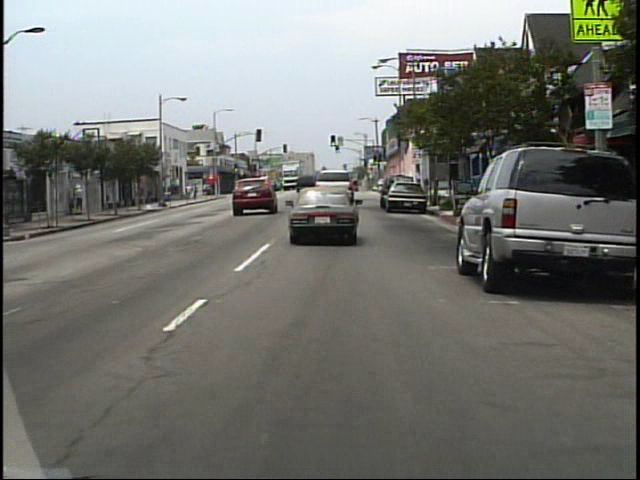person: (75, 184, 88, 214)
